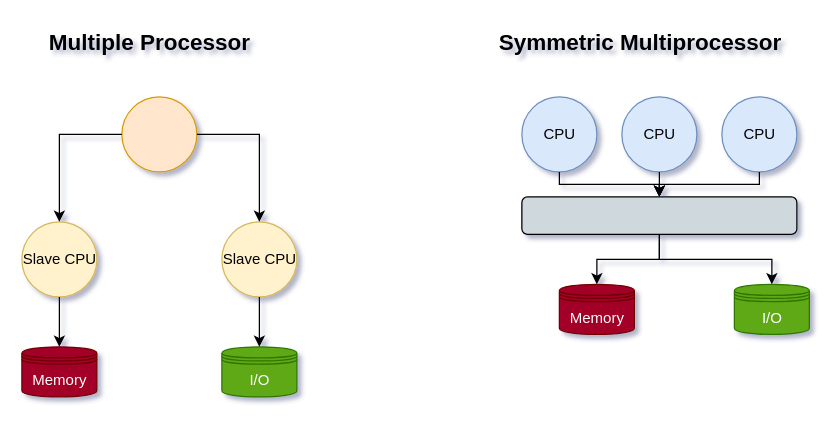
The diagram is 839 pixels wide and 426 high, and some of its shapes have lost their labels. The shapes that lost their labels are listed below. From the top down, each one's centre as x and y in pixels, then its label:
the point at 159,134: Master CPU
the point at 659,215: Shared Bus
